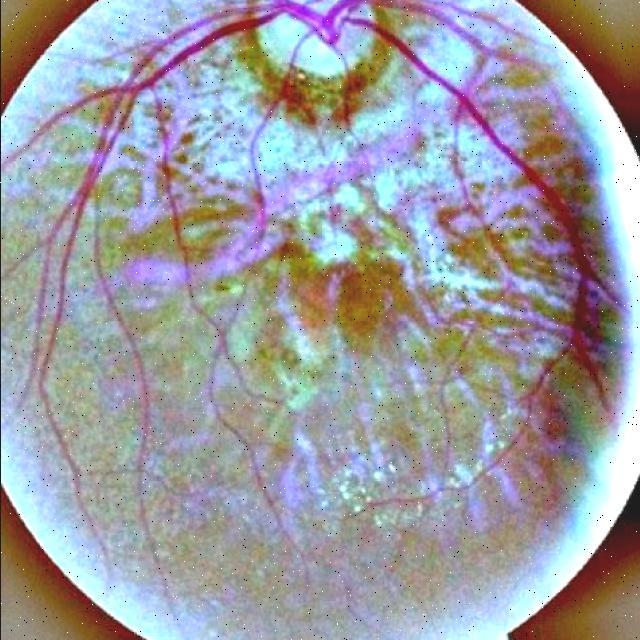Macula: (299, 253, 372, 321)
Nerves: (0, 0, 617, 381)
Optic Disk: (253, 0, 373, 88)
